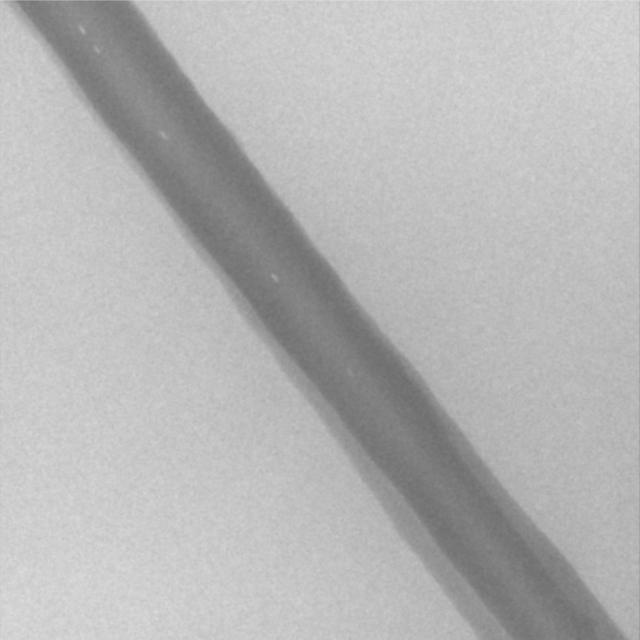air hole: (76, 24, 86, 37), (270, 271, 279, 284), (93, 43, 101, 55), (159, 131, 168, 141)
